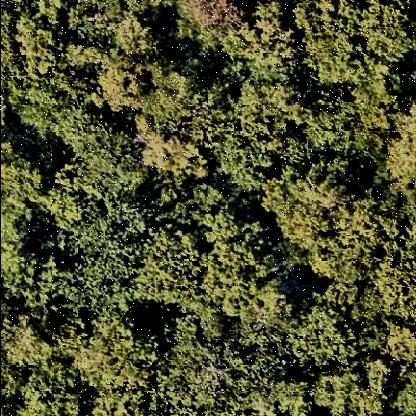tree-top: (165, 314, 293, 414), (320, 195, 412, 315), (298, 1, 414, 89), (63, 310, 165, 404), (200, 214, 288, 320), (230, 75, 314, 171), (268, 165, 355, 255), (134, 224, 219, 315), (327, 83, 403, 174), (1, 1, 65, 108), (77, 201, 151, 287), (78, 117, 142, 203), (1, 135, 53, 237), (7, 346, 81, 413), (287, 299, 353, 367), (149, 79, 221, 140), (315, 358, 391, 412), (93, 53, 149, 116), (382, 100, 416, 202), (1, 304, 58, 364), (141, 129, 203, 183), (176, 2, 256, 42), (1, 249, 63, 299), (382, 320, 416, 380), (389, 366, 416, 416)
